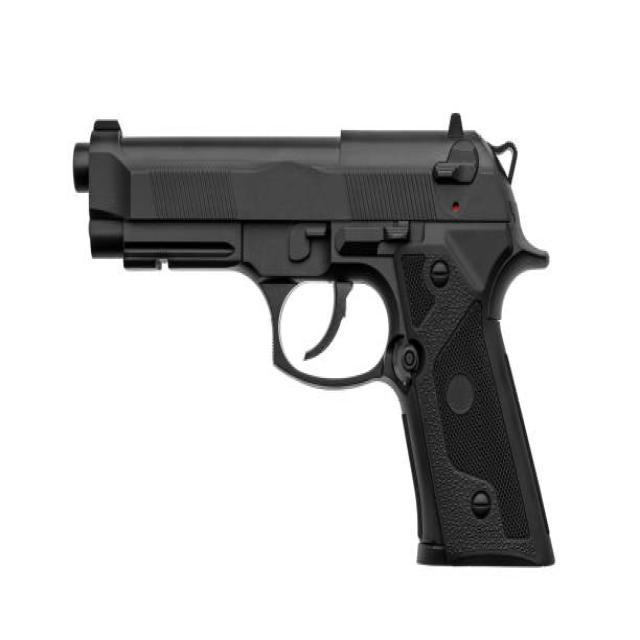pistol: (70, 109, 566, 583)
